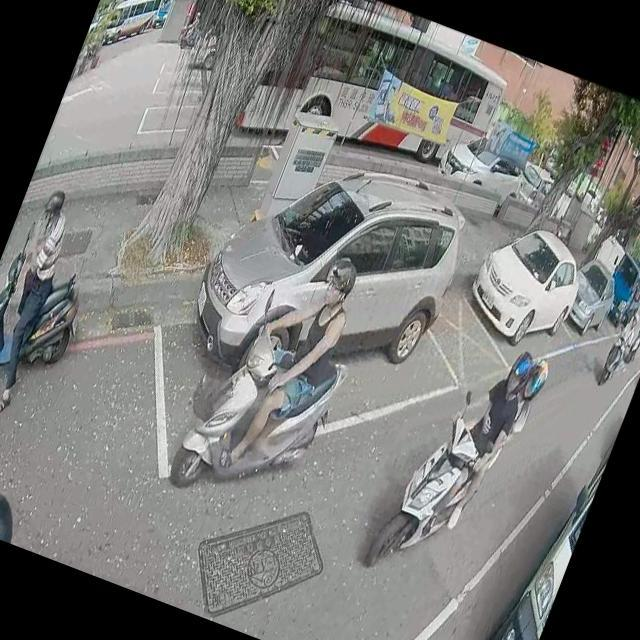person: (202, 232, 372, 490), (408, 332, 542, 556), (432, 342, 550, 534), (0, 181, 90, 418), (601, 309, 640, 383), (0, 483, 29, 543), (181, 6, 204, 42), (636, 314, 640, 336)
